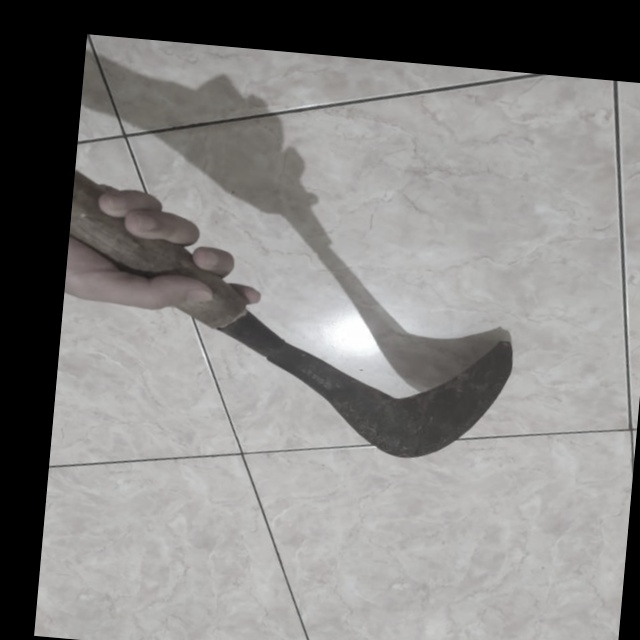Sharp-Object: (52, 155, 577, 476)
